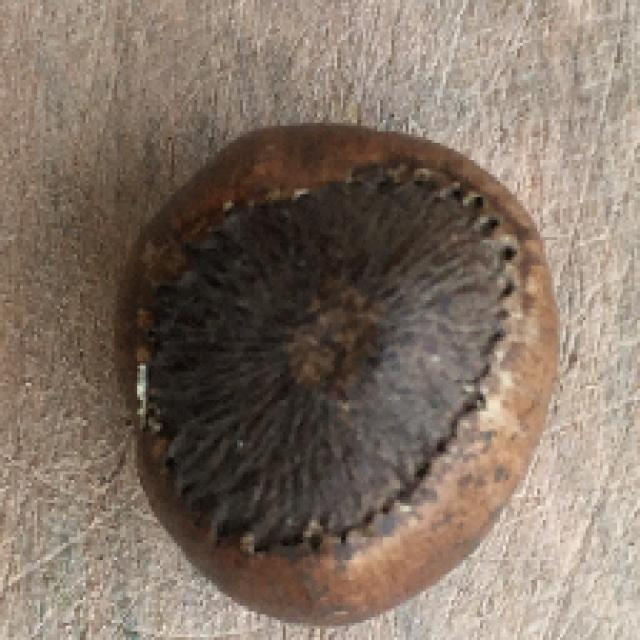DamagedHazelnut: (109, 124, 566, 626)
